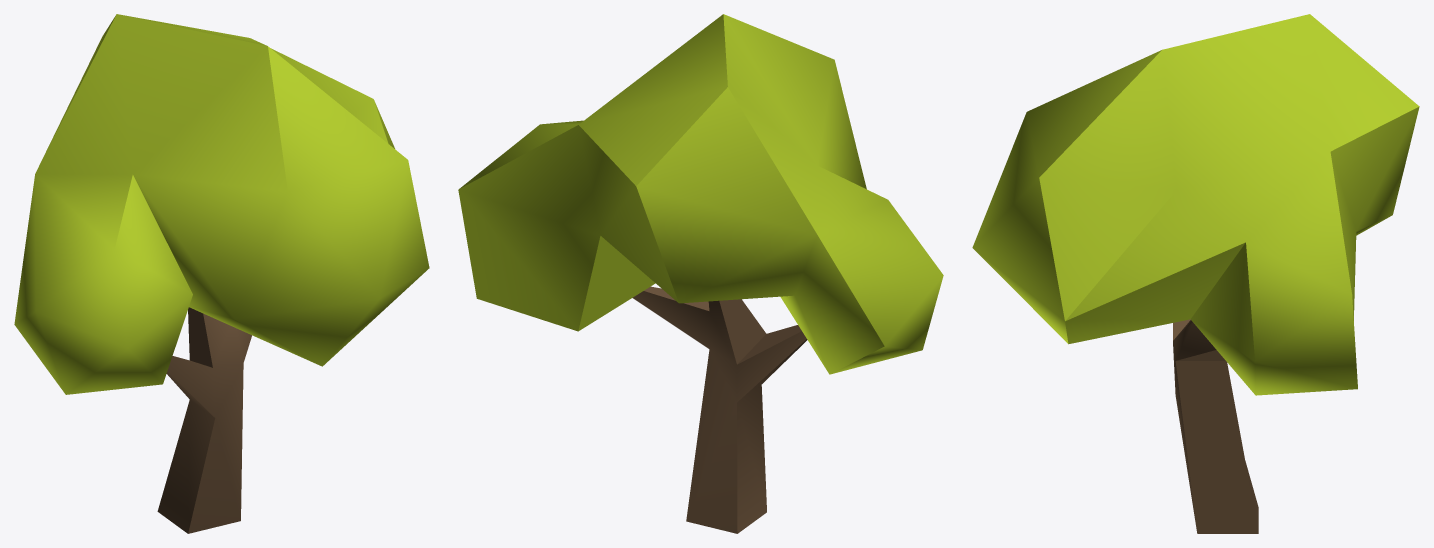
The model's file is tree02.glb.
3 renders of one model, left to right at view 1: azimuth 30°, elevation 25°; view 2: azimuth 150°, elevation 25°; view 3: azimuth 270°, elevation 25°, orthographic. The views are drawn at different scales.
Parts seen in each view (by area): view 1: Object_2; view 2: Object_2; view 3: Object_2.
Part boxes in pixels (bbox=[...]): Object_2: bbox=[14, 14, 429, 533]; Object_2: bbox=[458, 14, 943, 533]; Object_2: bbox=[972, 14, 1419, 533].
Bounding box in the file's own units: 6.98 × 7.75 × 6.42.
Materials: 1 (1 with a texture image).
